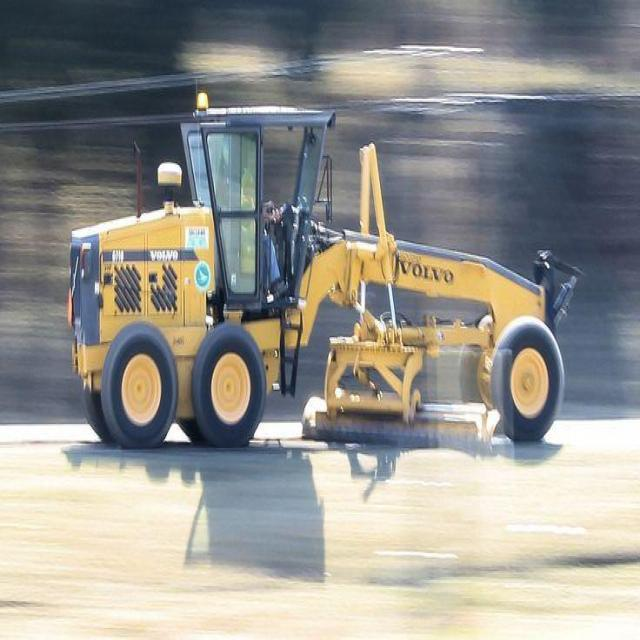Grader: (58, 69, 569, 459)
